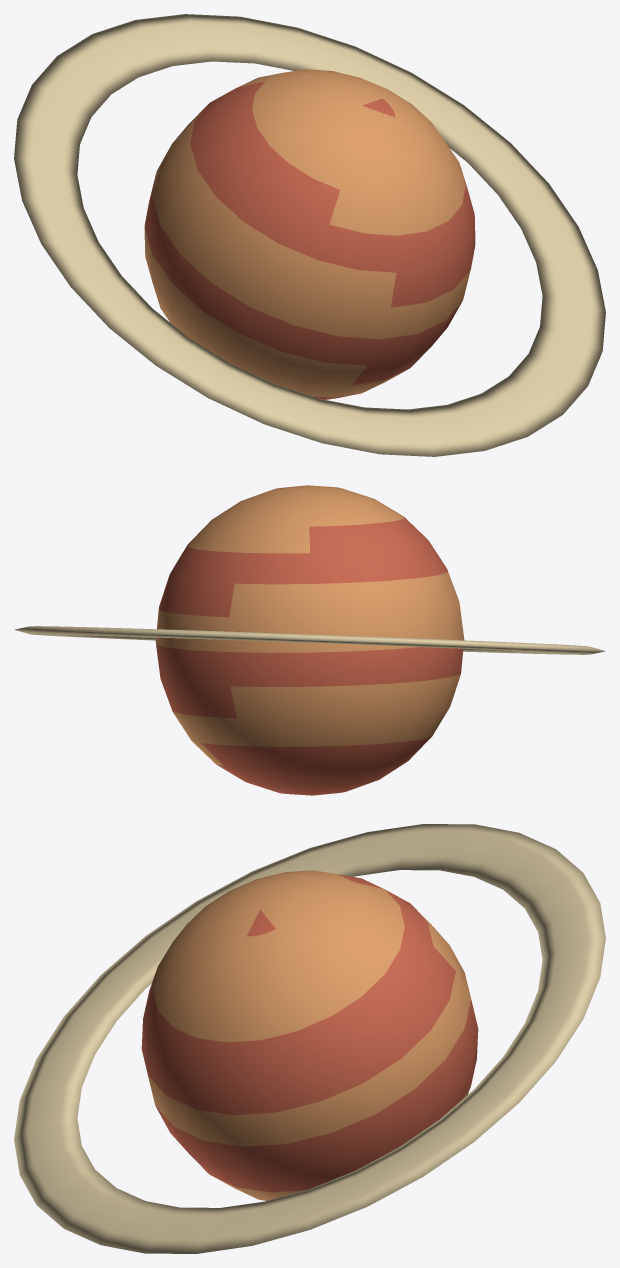
File: Planet_Ring.fbx
3 views of the same model, one above another, from view 1: azimuth 30°, elevation 25°; view 2: azimuth 150°, elevation 25°; view 3: azimuth 270°, elevation 25° (orthographic). The views are drawn at different scales.
Parts seen in each view (by area): view 1: Planet_Ring; view 2: Planet_Ring; view 3: Planet_Ring.
Boxes of the visible parts, bbox=[...] form: Planet_Ring: bbox=[14, 14, 605, 456]; Planet_Ring: bbox=[14, 485, 605, 795]; Planet_Ring: bbox=[14, 824, 605, 1253].
Size of the model in its own units: 14.93 by 7.97 by 14.03.
